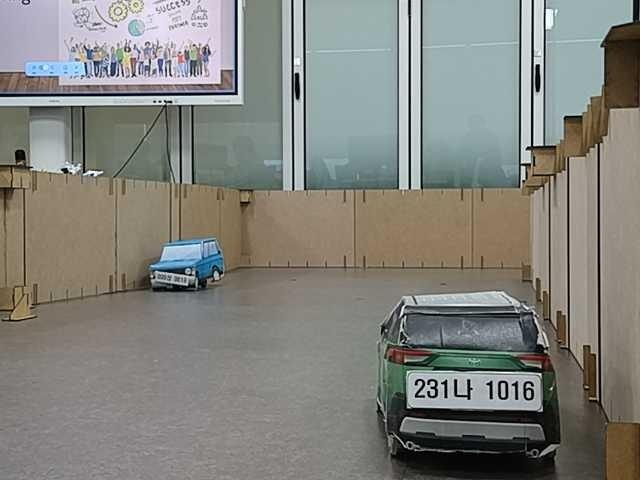car: (377, 290, 562, 461), (150, 238, 226, 289)
id: (407, 369, 542, 414), (154, 271, 191, 286)
